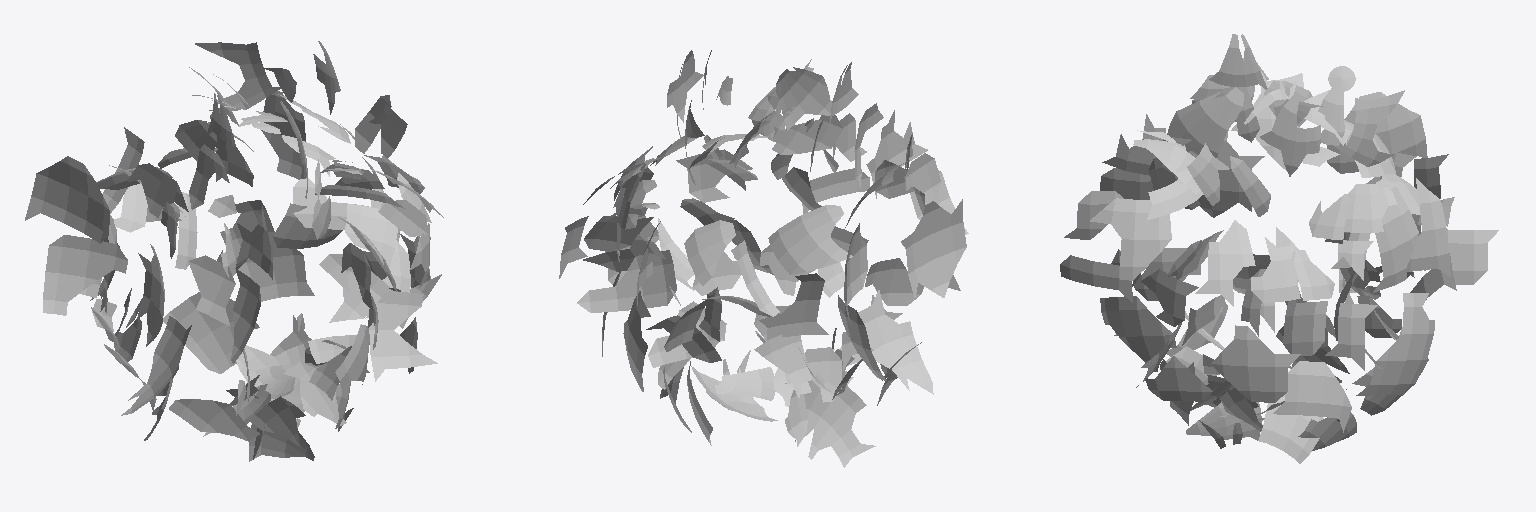
Rendered from sphere_explode.obj.
3 renders of one model, left to right at view 1: azimuth 30°, elevation 25°; view 2: azimuth 150°, elevation 25°; view 3: azimuth 270°, elevation 25°, orthographic.
Parts seen in each view (by area): view 1: Sphere_Sphere.001; view 2: Sphere_Sphere.001; view 3: Sphere_Sphere.001.
Boxes of the visible parts, x1,y1,x2,y2 form: Sphere_Sphere.001: [25, 41, 443, 461]; Sphere_Sphere.001: [559, 50, 968, 467]; Sphere_Sphere.001: [1060, 34, 1498, 463].
Size of the model in its own units: 2.73 by 3.05 by 3.13.